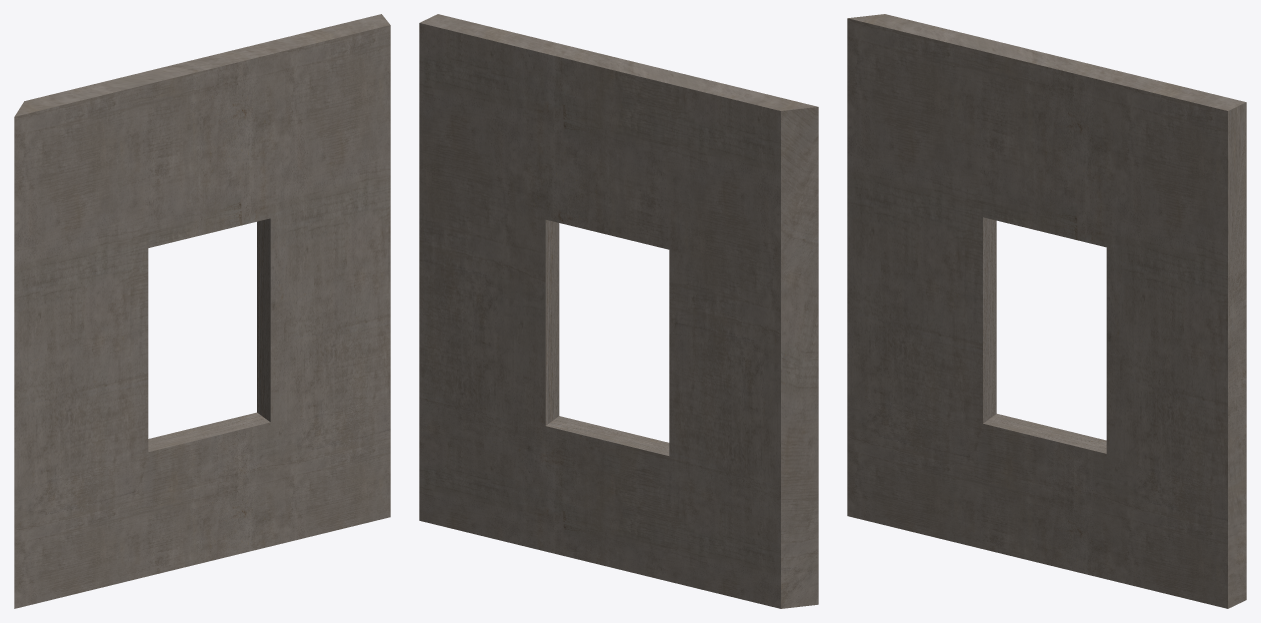
File: wall1.obj
The picture shows the model from 3 angles, left to right: view 1: azimuth 30°, elevation 25°; view 2: azimuth 150°, elevation 25°; view 3: azimuth 330°, elevation 25°; orthographic projection.
Visible parts, largest first — view 1: wall.001; view 2: wall.001; view 3: wall.001.
Part boxes in pixels (x1=…): wall.001: x1=14, y1=14, x2=390, y2=608; wall.001: x1=419, y1=14, x2=818, y2=608; wall.001: x1=847, y1=14, x2=1246, y2=608.
Bounding box in the file's own units: 0.81 × 1 × 0.05.
